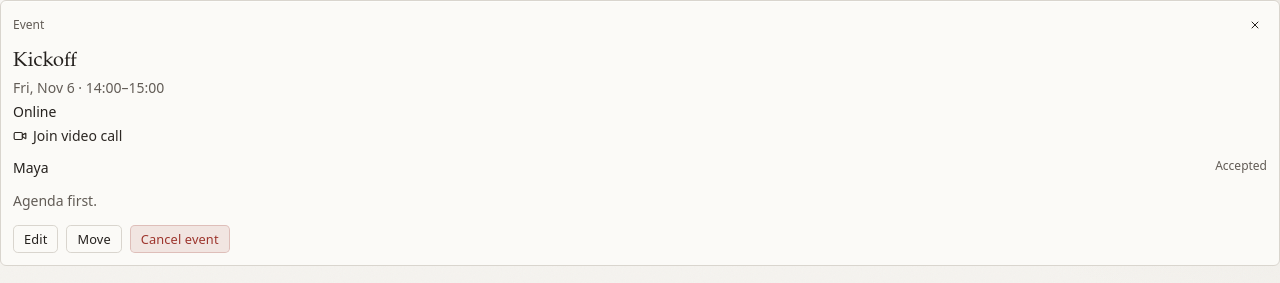
Test: EventPopover › moves an event across midnight with its own end date
Later steps or results of the test are not shown.
Click the button "Move" at (94, 239), box [66, 225, 122, 253]
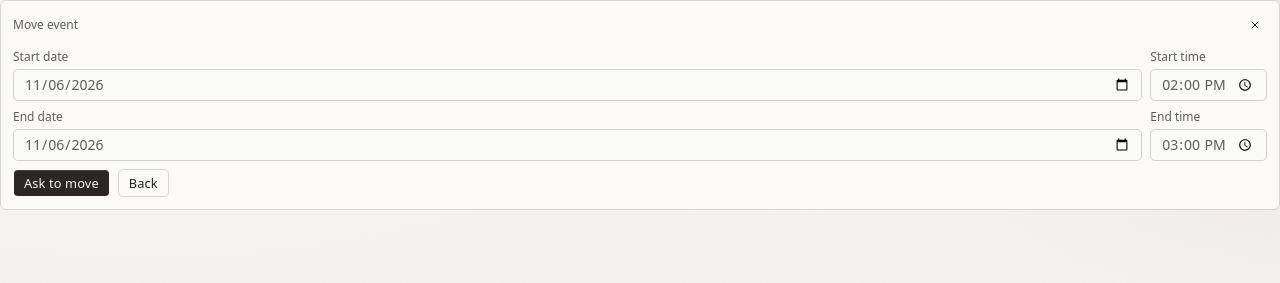
Replace the text in the time field labelled "Start time" with "23:00" at (1209, 85), box [1150, 69, 1267, 101]
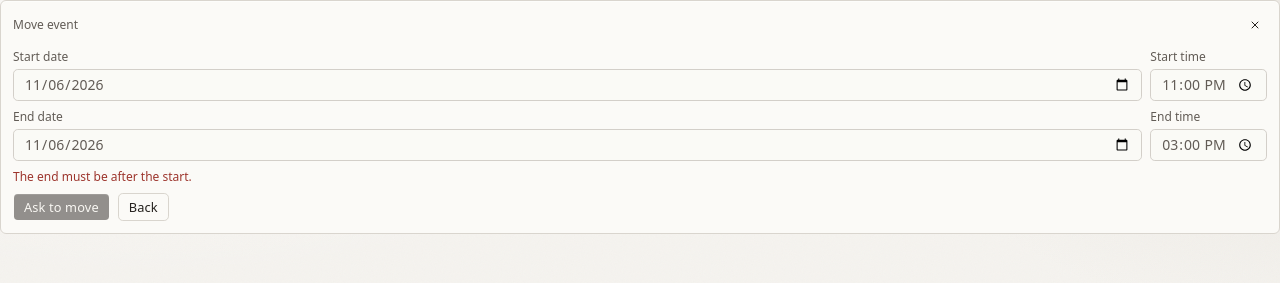
Replace the text in the time field labelled "End time" with "01:00" at (1209, 145), box [1150, 129, 1267, 161]
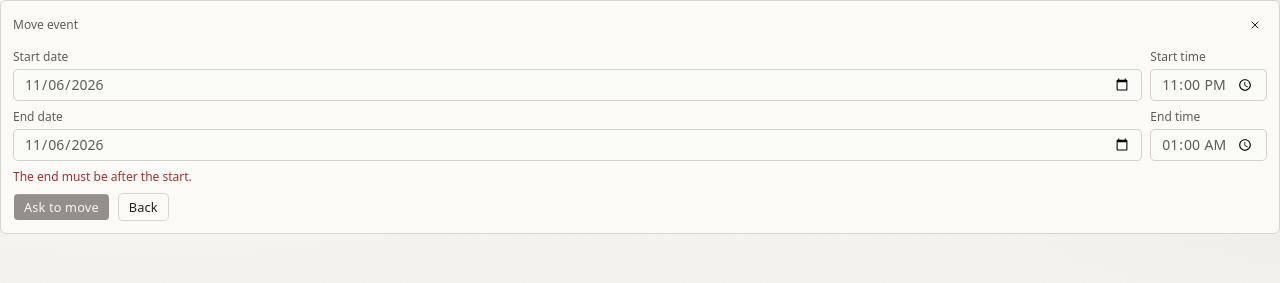
Expected: the text "The end must be after the start." is shown, [13, 168, 192, 185]
